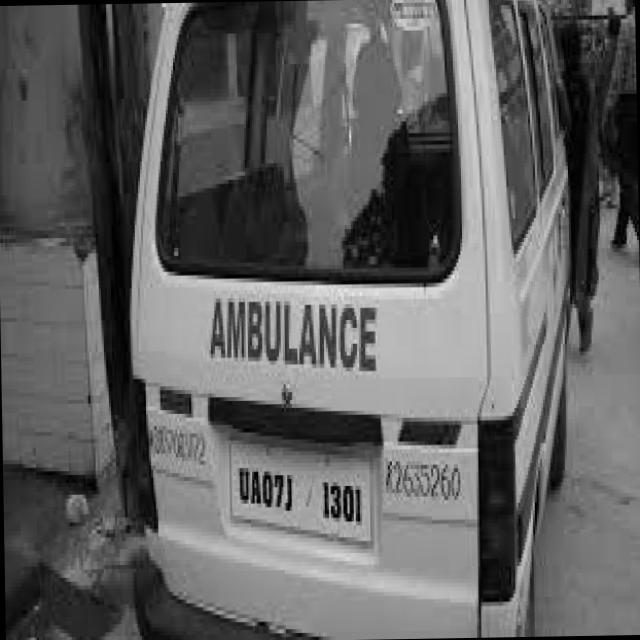ambulance: (140, 0, 560, 640)
